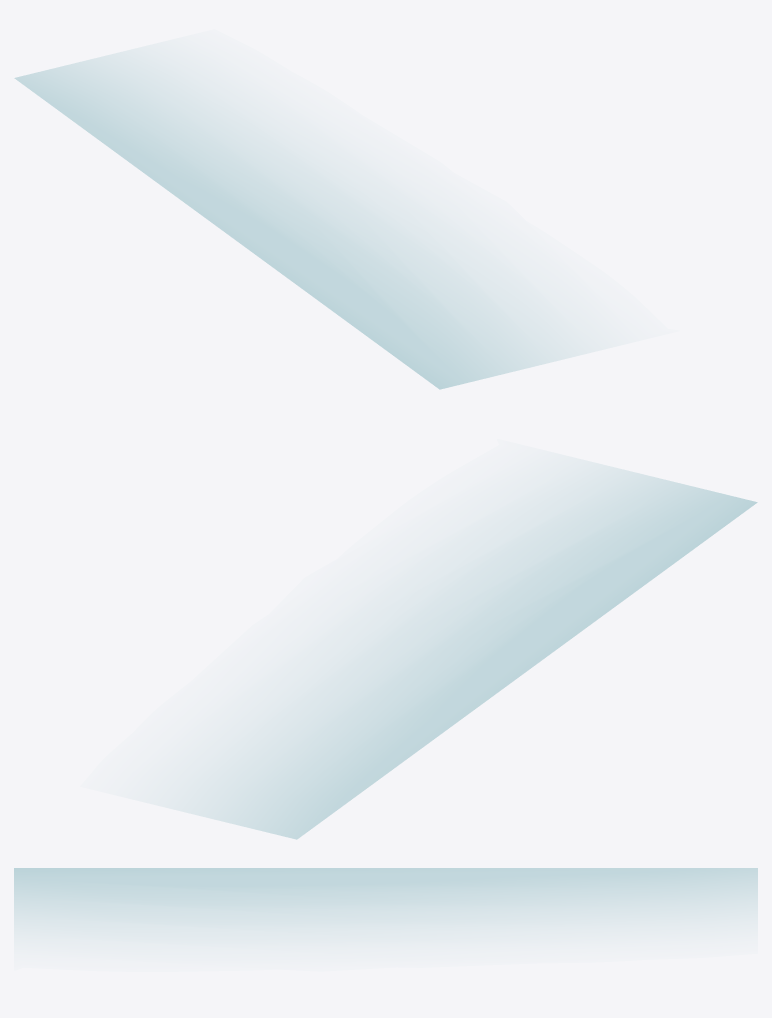
3 renders of one model, top to bottom at view 1: azimuth 30°, elevation 25°; view 2: azimuth 150°, elevation 25°; view 3: azimuth 270°, elevation 25°, orthographic. The views are drawn at different scales.
Visible parts, largest first — view 1: city; view 2: city; view 3: city.
Boxes of the visible parts, x1,y1,x2,y2 form: city: (14,51,582,389); city: (177,465,757,839); city: (14,868,757,934).
Bounding box in the file's own units: 216 × 0 × 500.
